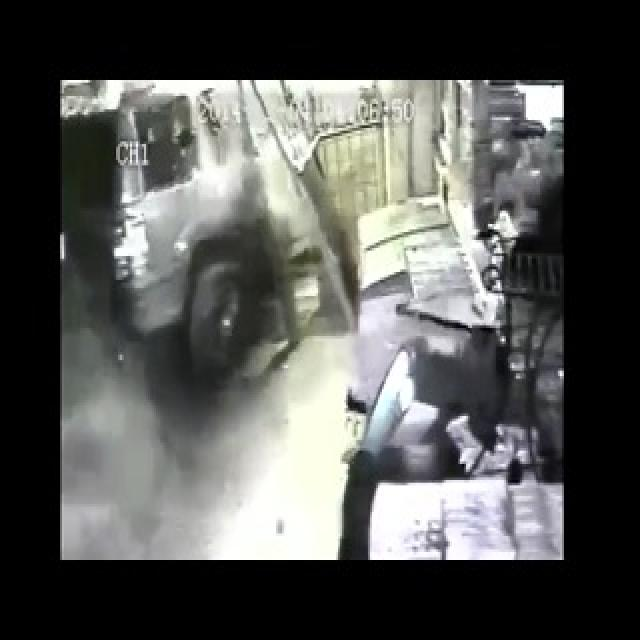burglary: (68, 89, 336, 431)
